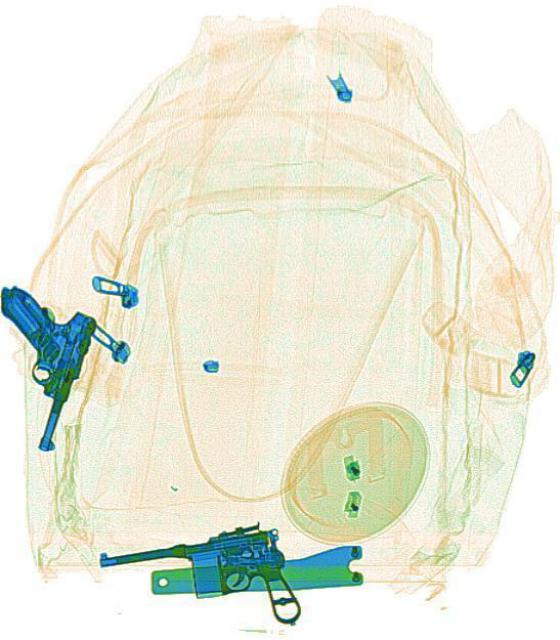Gun: (92, 524, 288, 638), (0, 285, 96, 449)
